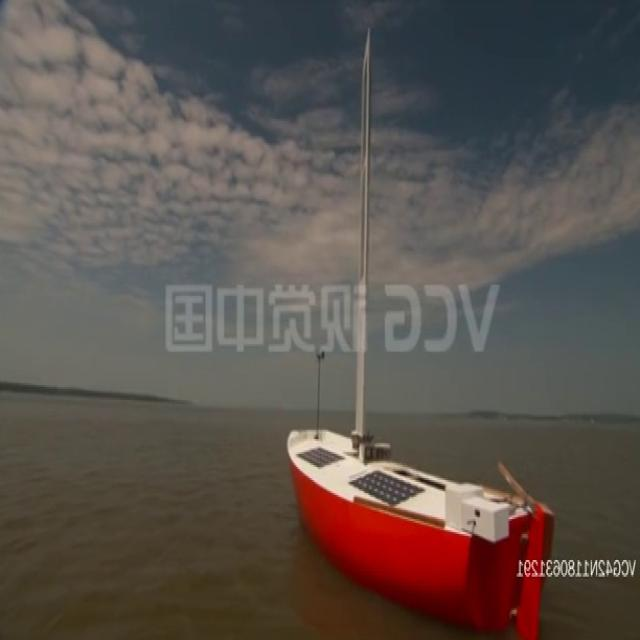houseboat: (286, 363, 562, 640)
